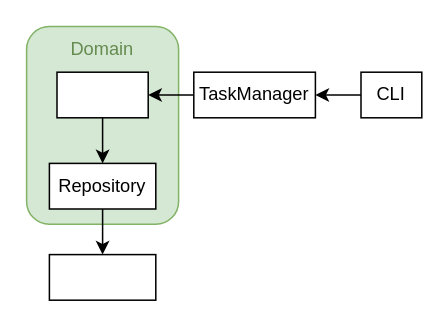
Some shapes in this 448 by 327 pixel diagram are drawn without their labels. The shapes that lost their labels are listed below. From the top down, each one's centre as x and y in pixels, then its label:
the point at 101,94: Service
the point at 102,276: JSON File
